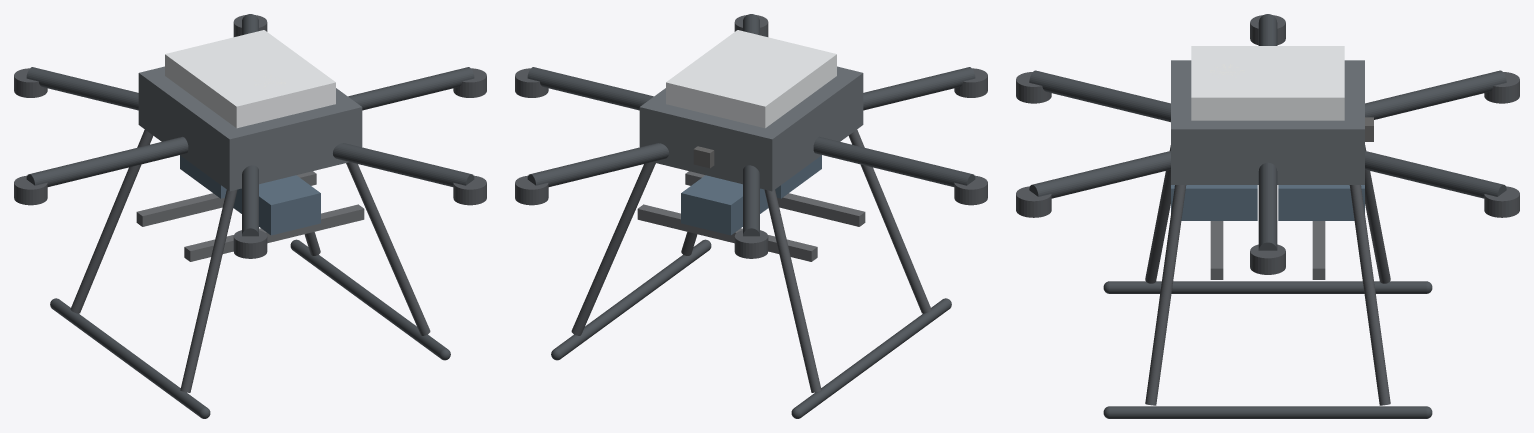
File: eams-hexa-frame.glb
3 views of the same model, side by side, from view 1: azimuth 30°, elevation 25°; view 2: azimuth 150°, elevation 25°; view 3: azimuth 270°, elevation 25° (orthographic). The views are drawn at different scales.
Parts seen in each view (by area): view 1: frame_chassis, frame_canopy, battery_pack_rear, frame_arm_2, frame_arm_4, landing_gear_left_skid, landing_gear_right_skid, landing_gear_rear_left_strut, frame_arm_5, landing_gear_rear_right_strut, frame_arm_1, landing_gear_front_left_strut (+9 smaller); view 2: frame_chassis, frame_canopy, battery_pack_front, frame_arm_2, frame_arm_6, landing_gear_left_skid, landing_gear_right_skid, landing_gear_front_left_strut, frame_arm_5, landing_gear_front_right_strut, frame_arm_3, landing_gear_rear_left_strut (+9 smaller); view 3: frame_chassis, frame_canopy, landing_gear_right_skid, landing_gear_left_skid, battery_pack_front, battery_pack_rear, frame_arm_3, landing_gear_front_right_strut, landing_gear_rear_right_strut, frame_arm_1, frame_arm_4, frame_arm_6 (+12 smaller).
Boxes of the visible parts, left/top/right/bottom form: frame_chassis: left=138, top=66, right=362, bottom=191; frame_canopy: left=165, top=30, right=335, bottom=128; battery_pack_rear: left=233, top=175, right=320, bottom=235; frame_arm_2: left=26, top=136, right=188, bottom=186; frame_arm_4: left=333, top=143, right=474, bottom=186; landing_gear_left_skid: left=50, top=298, right=210, bottom=418; landing_gear_right_skid: left=290, top=239, right=450, bottom=360; landing_gear_rear_left_strut: left=180, top=189, right=237, bottom=392; frame_arm_5: left=348, top=67, right=474, bottom=110; landing_gear_rear_right_strut: left=346, top=162, right=430, bottom=335; frame_arm_1: left=26, top=67, right=138, bottom=110; landing_gear_front_left_strut: left=70, top=129, right=153, bottom=313; frame_chassis: left=639, top=66, right=863, bottom=191; frame_canopy: left=666, top=30, right=836, bottom=128; battery_pack_front: left=681, top=175, right=768, bottom=235; frame_arm_2: left=813, top=136, right=975, bottom=186; frame_arm_6: left=527, top=143, right=668, bottom=186; landing_gear_left_skid: left=791, top=298, right=951, bottom=418; landing_gear_right_skid: left=551, top=239, right=711, bottom=360; landing_gear_front_left_strut: left=764, top=189, right=821, bottom=392; frame_arm_5: left=527, top=67, right=653, bottom=110; landing_gear_front_right_strut: left=571, top=162, right=655, bottom=335; frame_arm_3: left=863, top=67, right=975, bottom=110; landing_gear_rear_left_strut: left=848, top=129, right=931, bottom=313; frame_chassis: left=1171, top=60, right=1364, bottom=184; frame_canopy: left=1191, top=46, right=1344, bottom=120; landing_gear_right_skid: left=1103, top=406, right=1432, bottom=418; landing_gear_left_skid: left=1103, top=281, right=1432, bottom=293; battery_pack_front: left=1278, top=185, right=1364, bottom=220; battery_pack_rear: left=1171, top=185, right=1257, bottom=220; frame_arm_3: left=1029, top=70, right=1170, bottom=122; landing_gear_front_right_strut: left=1349, top=185, right=1390, bottom=405; landing_gear_rear_right_strut: left=1145, top=185, right=1186, bottom=405; frame_arm_1: left=1365, top=70, right=1506, bottom=119; frame_arm_4: left=1029, top=151, right=1170, bottom=198; frame_arm_6: left=1365, top=151, right=1506, bottom=198.
Bounding box in the file's own units: 1.13 × 0.6145 × 0.988.
